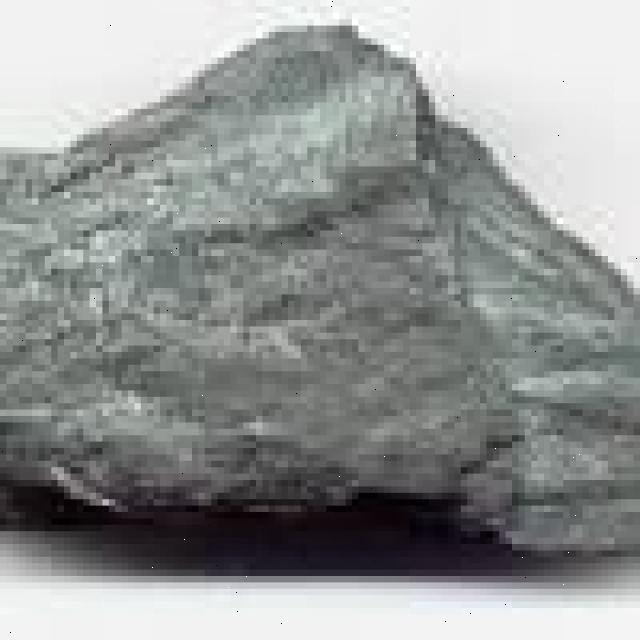Sedimentary: (6, 6, 640, 628)
